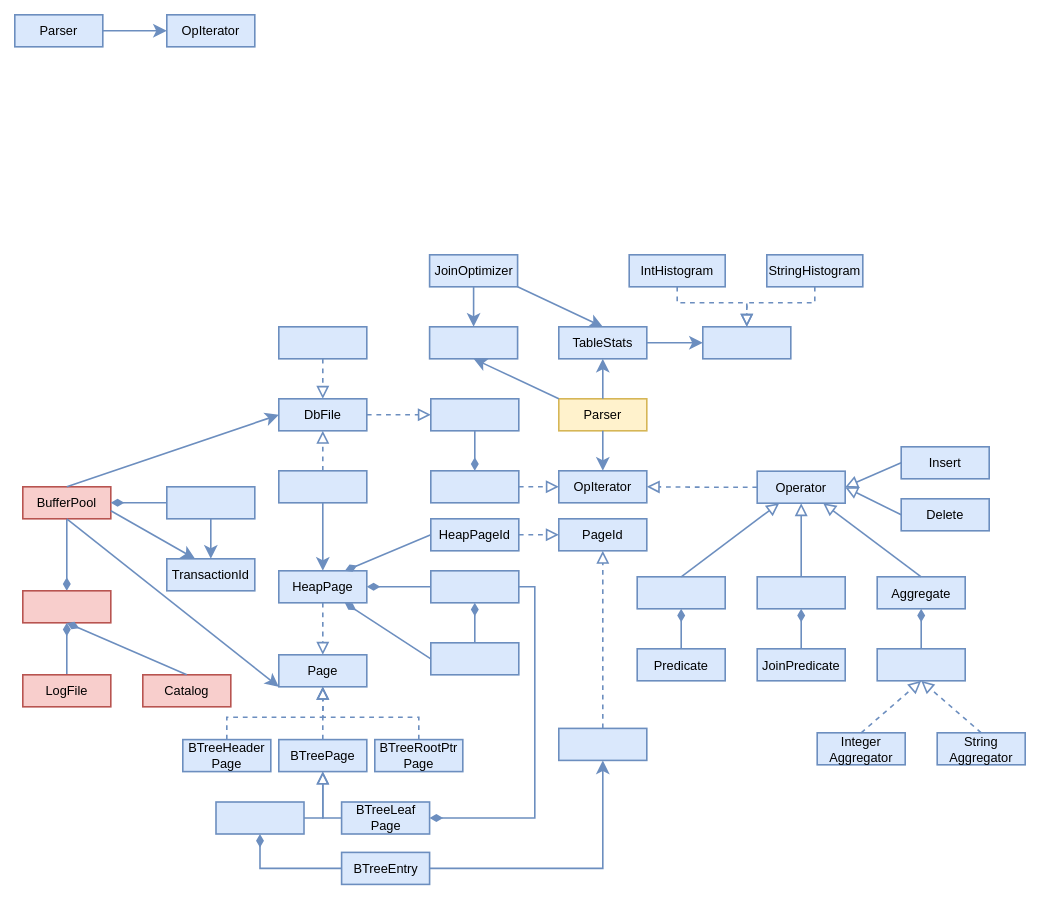
The diagram is 1039 pixels wide and 898 high, and some of its shapes have lost their labels. The shapes that lost their labels are listed below. From the top down, each one's centre as x and y in pixels, then its label:
(322,342): BTreeFile
(473,342): LogicalPlan
(746,342): Histogram
(474,414): DbFileIterator
(210,502): LockManager
(322,486): HeapFile
(474,486): SeqScan
(66,606): Database
(474,586): Tuple
(681,592): Filter
(801,592): Join
(474,658): TupleDesc
(921,664): Aggregator
(602,744): BTreePageId
(259,817): BTreeInternal Page
